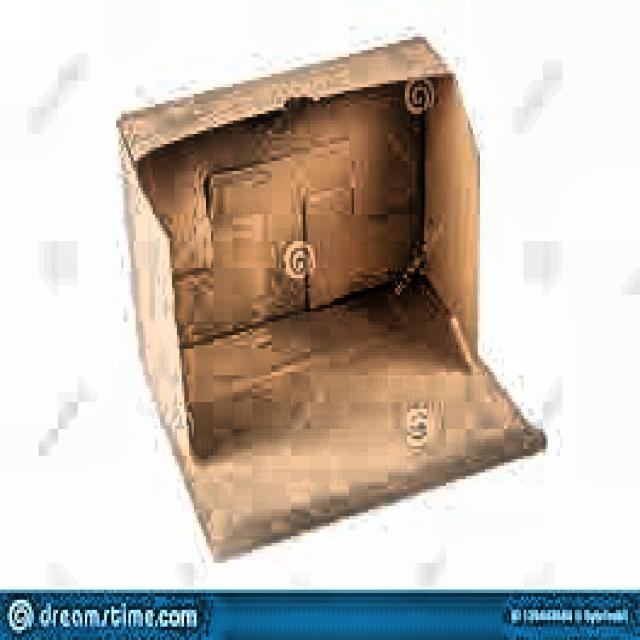cardboard: (114, 30, 546, 560)
